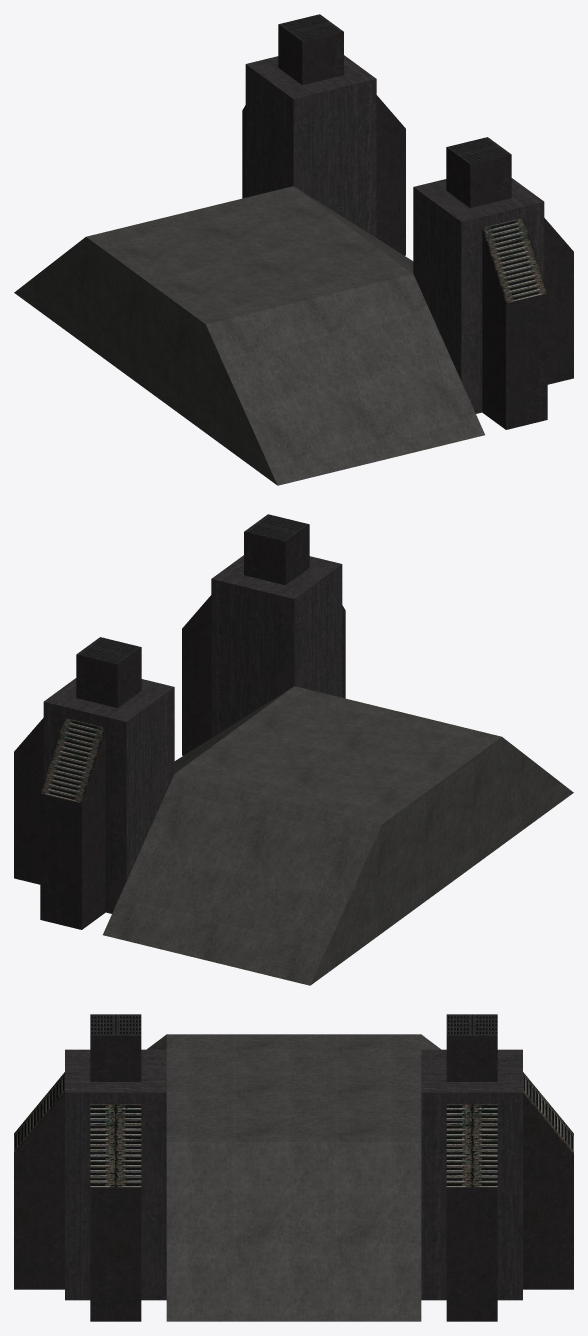
Rendered from mirabase_model.fbx.
3 views of the same model, one above another, from view 1: azimuth 30°, elevation 25°; view 2: azimuth 150°, elevation 25°; view 3: azimuth 270°, elevation 25° (orthographic). The views are drawn at different scales.
Visible parts, largest first — view 1: Object; view 2: Object; view 3: Object.
Part boxes in pixels (left/top/right/bottom): Object: left=14, top=14, right=573, bottom=485; Object: left=14, top=514, right=573, bottom=985; Object: left=14, top=1014, right=573, bottom=1321.
Bounding box in the file's own units: 3200 × 2200 × 4400.
